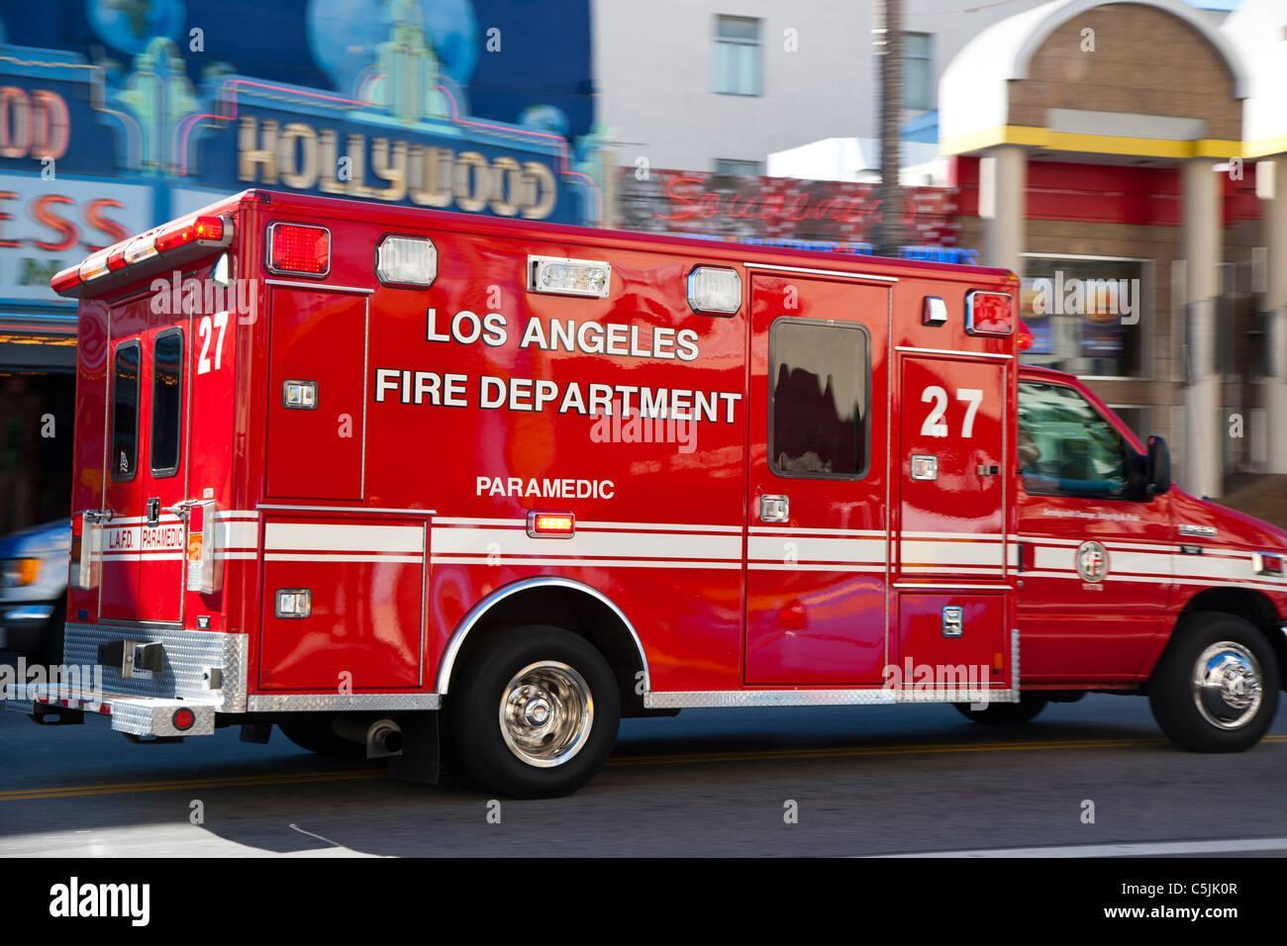Fire-engine: (46, 192, 1287, 804)
